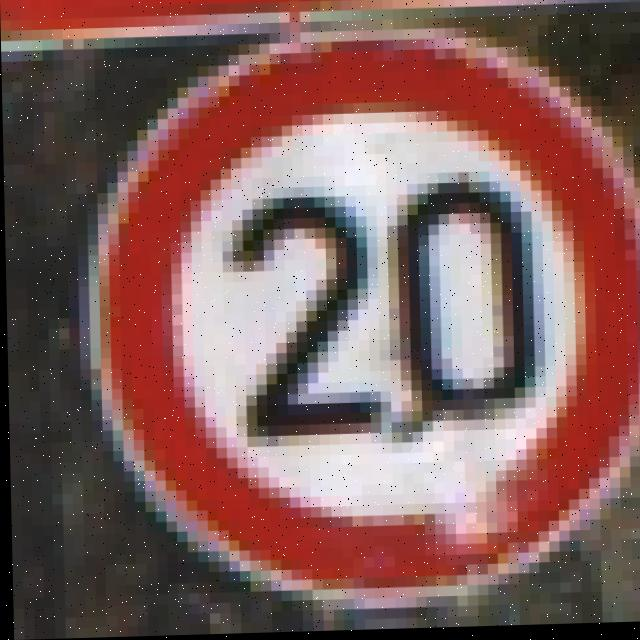speed_limit_20: (73, 23, 640, 586)
